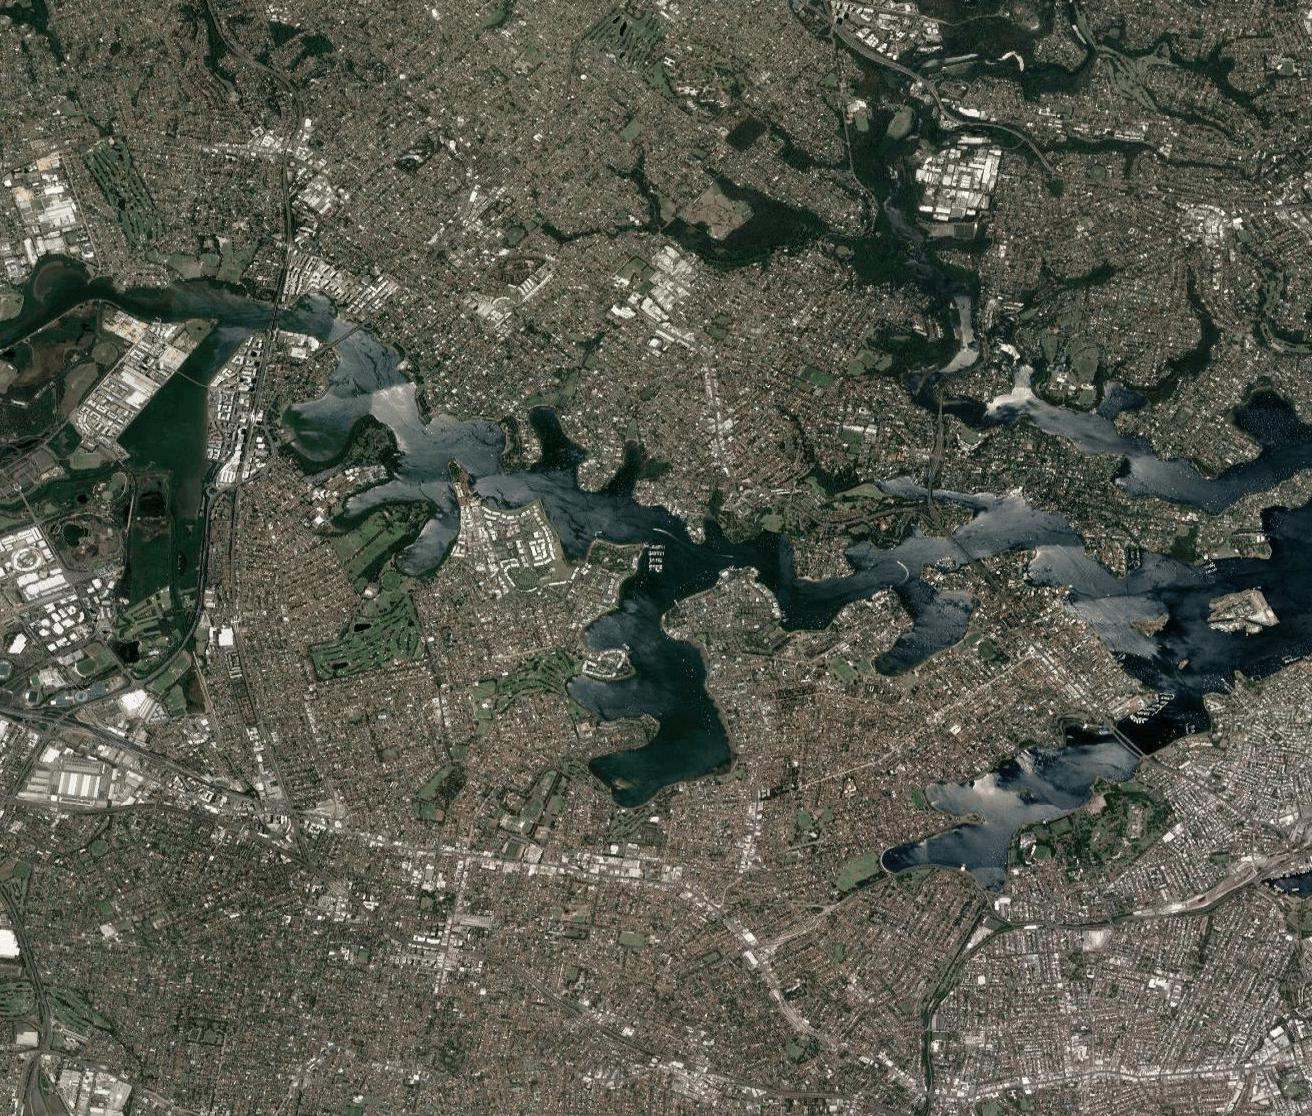bridge: (1112, 728, 1148, 759), (946, 531, 975, 561)
harbor: (1130, 683, 1177, 723), (643, 540, 667, 575)
industrial: (17, 159, 80, 251), (922, 139, 996, 214), (35, 751, 123, 812), (1, 528, 66, 600), (58, 1060, 140, 1116), (648, 247, 700, 316)
motorway: (939, 520, 985, 568), (924, 467, 939, 516)
